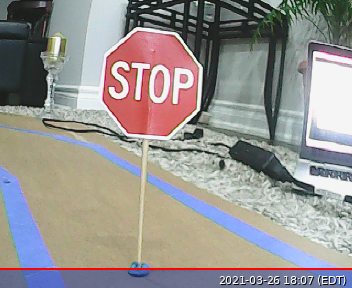Stop Sign: (98, 26, 204, 142)
